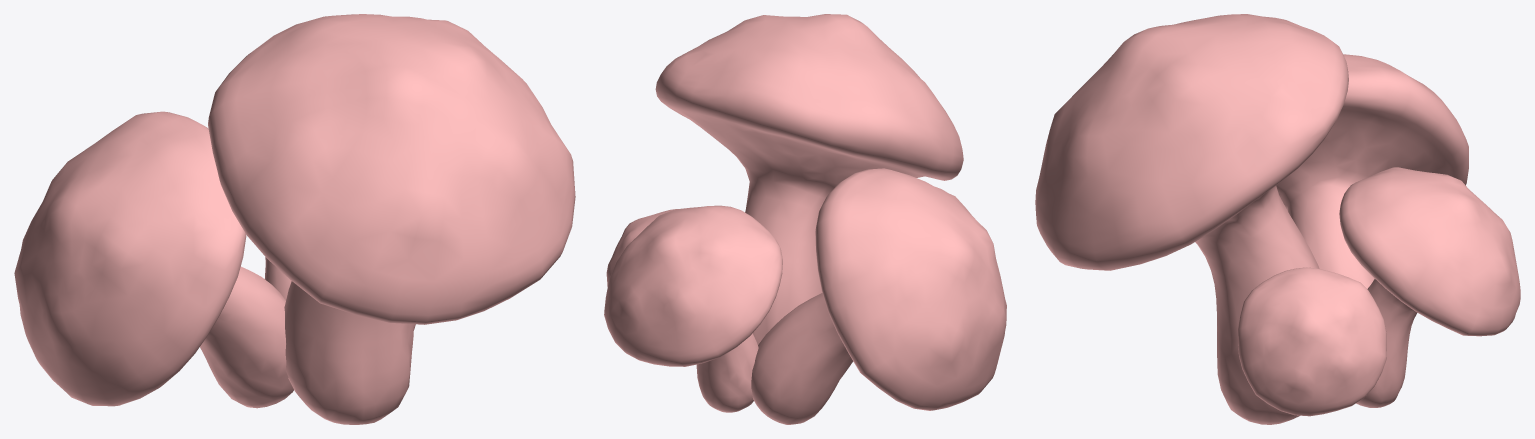
Rendered from Mushroom02-2.fbx.
3 views of the same model, side by side, from view 1: azimuth 30°, elevation 25°; view 2: azimuth 150°, elevation 25°; view 3: azimuth 270°, elevation 25° (orthographic). The views are drawn at different scales.
Visible parts, largest first — view 1: Mushroom8; view 2: Mushroom8; view 3: Mushroom8.
Part boxes in pixels (left/top/right/bottom): Mushroom8: left=14, top=14, right=575, bottom=424; Mushroom8: left=604, top=14, right=1006, bottom=424; Mushroom8: left=1035, top=14, right=1520, bottom=424.
Size of the model in its own units: 3.05 by 2.59 by 2.98.
